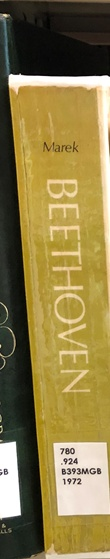call_number: (54, 443, 109, 517)
